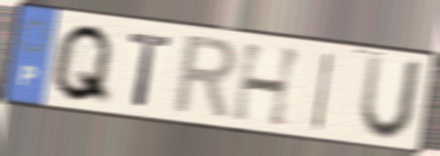H: (229, 41, 307, 131)
I: (309, 50, 337, 134)
Q: (48, 22, 117, 109)
R: (168, 32, 241, 124)
T: (126, 30, 176, 110)
U: (356, 52, 428, 145)
